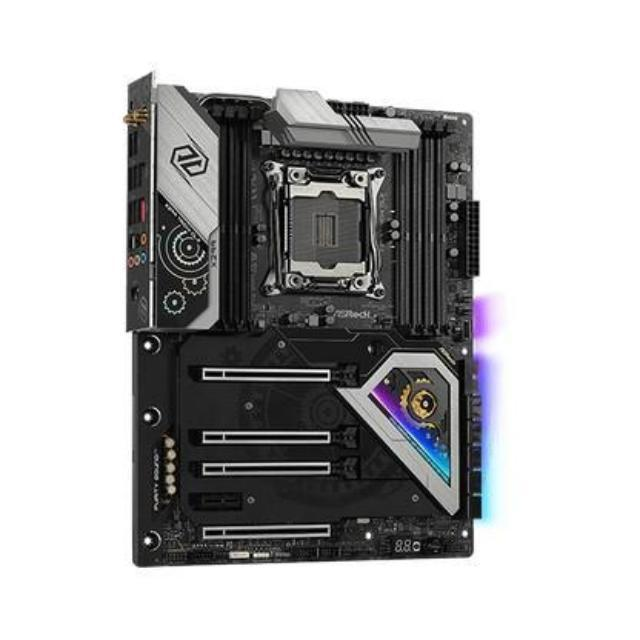Mainboard: (118, 68, 488, 577)
